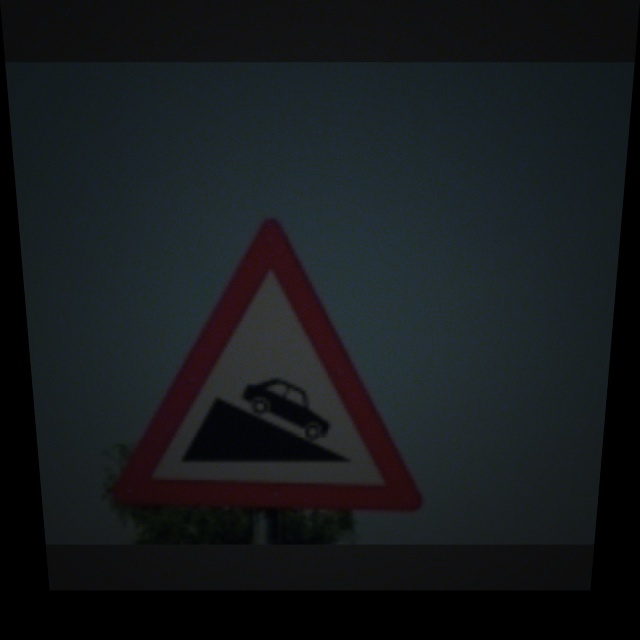Steep_Descent: (99, 223, 427, 507)
